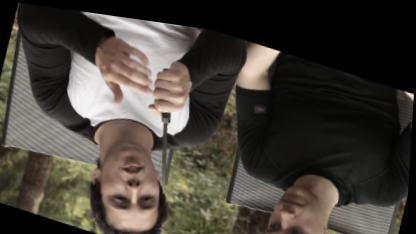knife: (130, 56, 200, 199)
